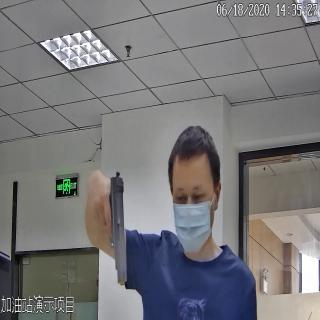gun: (92, 170, 130, 287)
